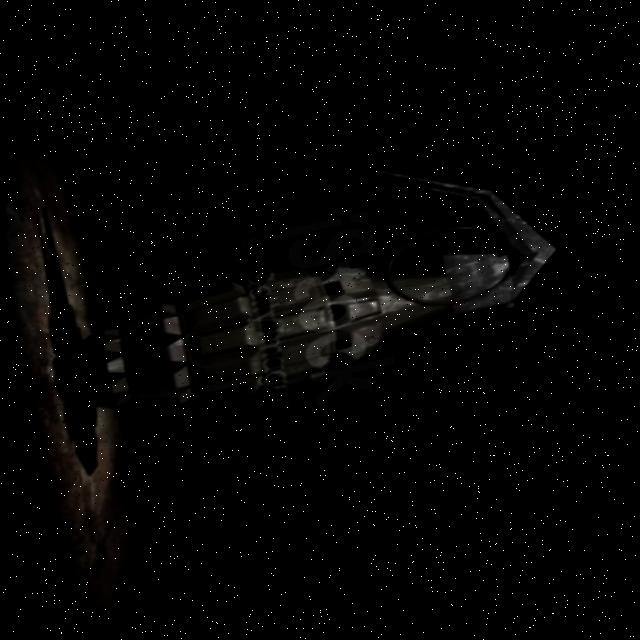grenade: (35, 100, 587, 457)
